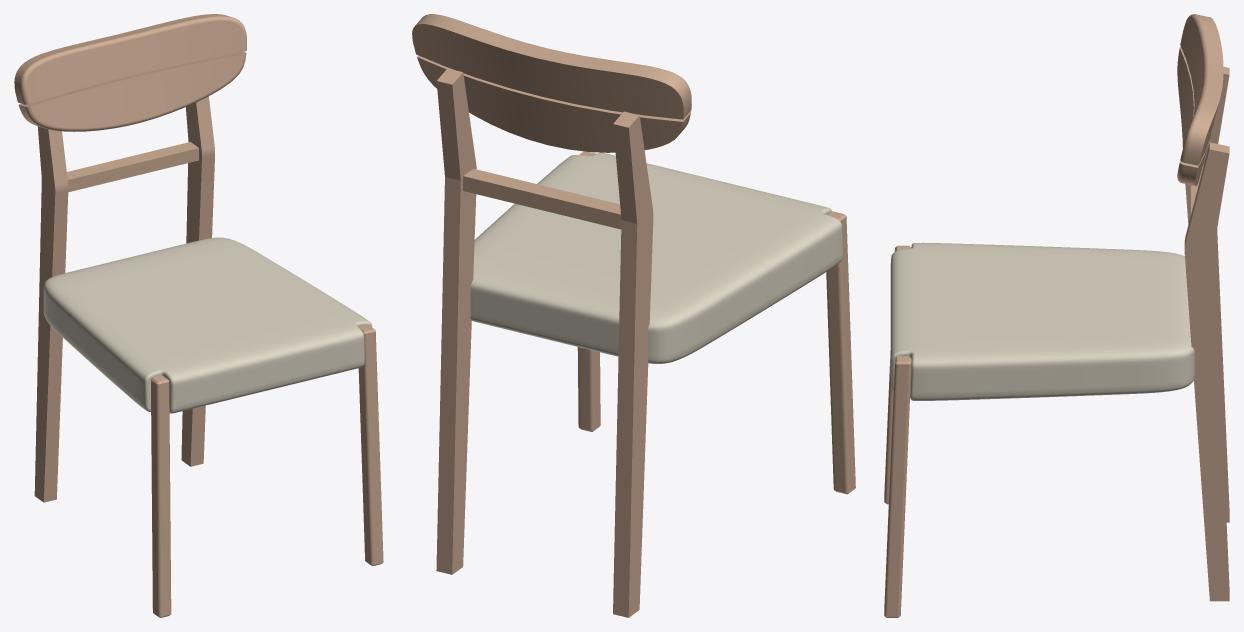
File: 538_ダイニングチェア.glb
3 views of the same model, side by side, from view 1: azimuth 30°, elevation 25°; view 2: azimuth 150°, elevation 25°; view 3: azimuth 270°, elevation 25° (orthographic). The views are drawn at different scales.
Parts seen in each view (by area): view 1: Body; view 2: Body; view 3: Body.
Part boxes in pixels (box(x1,y1,x2,y2)): Body: box(14, 14, 383, 617); Body: box(412, 14, 855, 617); Body: box(884, 14, 1229, 617).
Size of the model in its own units: 0.4348 by 0.8192 by 0.5199.
